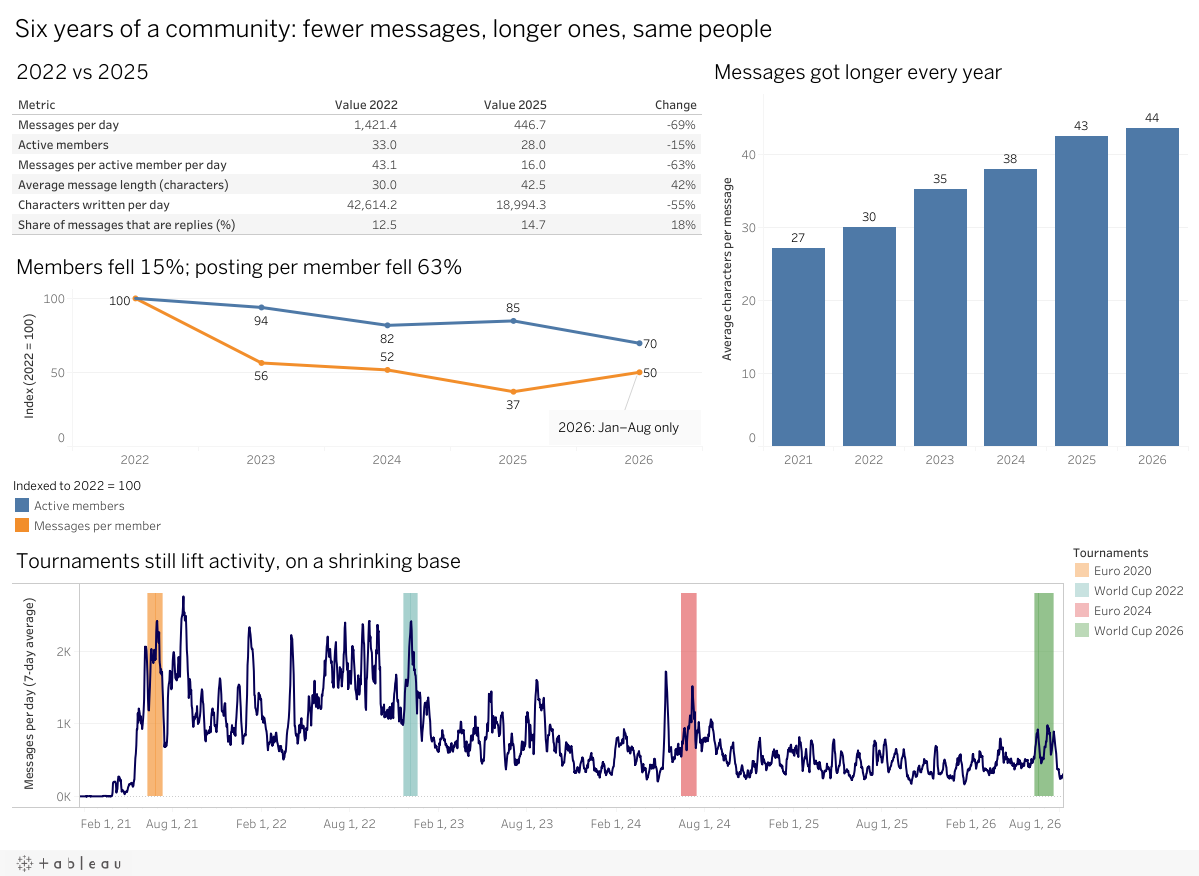

The dashboard page shown, as its layout file describes it:
{"tool":"tableau","page":{"name":"The decline","canvas":[1200,850],"ordinal":0},"visuals":[{"type":"title","box":[8,8,1184,40]},{"type":"worksheet","title":"Headline","mark":"Automatic","rows":["metric"],"box":[8,48,698,194.8]},{"type":"worksheet","title":"Message length","mark":"Bar","rows":["mean_characters_per_message"],"cols":["year"],"box":[706,48,486,423.6]},{"type":"worksheet","title":"Members vs posting","mark":"Line","cols":["year"],"box":[8,242.8,698,228.9]},{"type":"legend","title":"Members vs posting","param":"[federated.0qjj4en08axihi1bctz9919cmtvd].[:Measure Names]","box":[8,471.6,1184,65.7]},{"type":"worksheet","title":"Daily volume","mark":"Line","rows":["Calculation_1037443864694784","messages_7day_avg"],"cols":["day"],"box":[8,537.4,1060,304.6]},{"type":"legend","title":"Daily volume","param":"[federated.0cer39l1p5qq901gpczn51y693ye].[none:window:nk]","box":[1068,537.4,124,304.6]}]}

Visuals, with their boxes on the page's 1200x850 design canvas (x1, y1, x2, y2). These are canvas units, not pixel positions in the 1199x876 screenshot, which may show the page scaled, cropped or inside an application window:
title: bbox=[8, 8, 1192, 48]
"Headline" worksheet: bbox=[8, 48, 706, 243]
"Message length" worksheet (Bar marks): bbox=[706, 48, 1192, 472]
"Members vs posting" worksheet (Line marks): bbox=[8, 243, 706, 472]
"Members vs posting" legend: bbox=[8, 472, 1192, 537]
"Daily volume" worksheet (Line marks): bbox=[8, 537, 1068, 842]
"Daily volume" legend: bbox=[1068, 537, 1192, 842]
